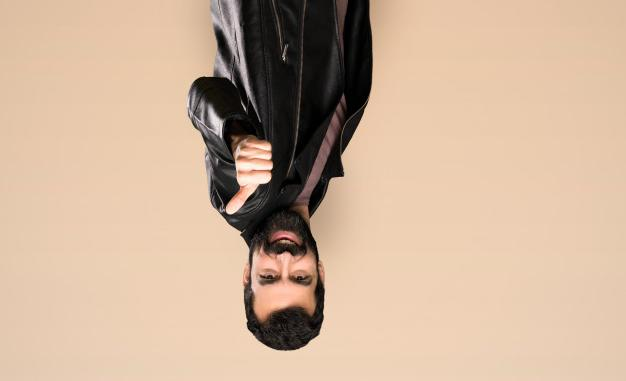thumbsdown: (225, 139, 273, 215)
